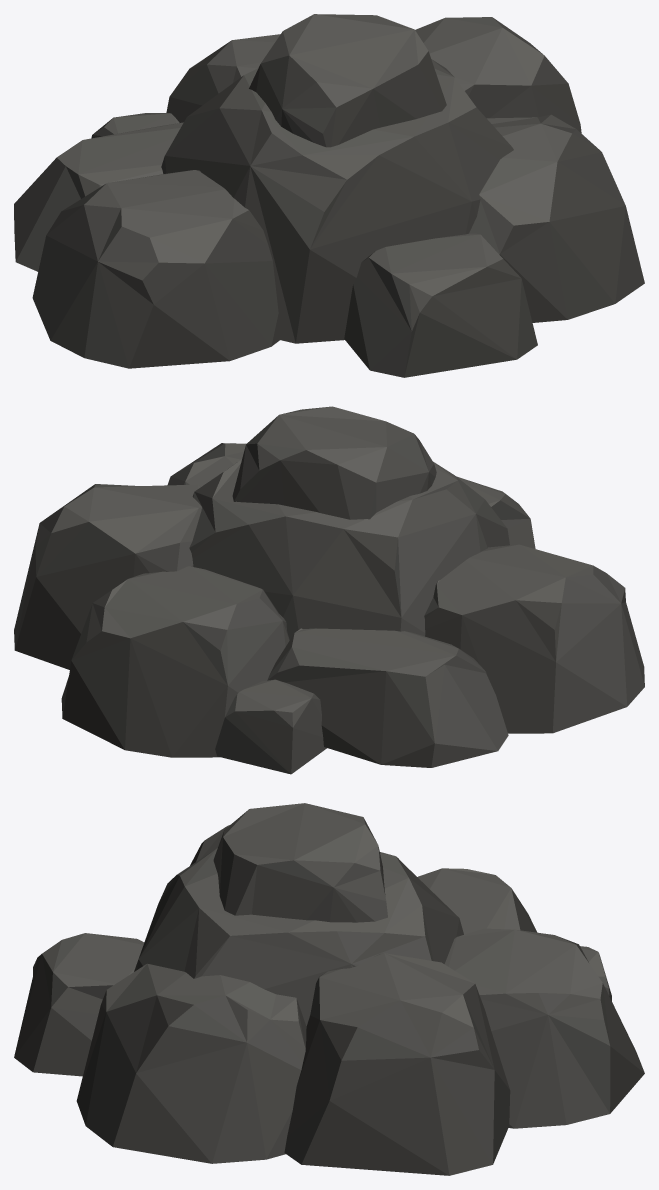
The model's file is SM_Prop_Rock_03.fbx.
The picture shows the model from 3 angles, top to bottom: view 1: azimuth 30°, elevation 25°; view 2: azimuth 150°, elevation 25°; view 3: azimuth 270°, elevation 25°; orthographic projection. The views are drawn at different scales.
Parts seen in each view (by area): view 1: SM_Prop_Rock_03; view 2: SM_Prop_Rock_03; view 3: SM_Prop_Rock_03.
Boxes of the visible parts, left/top/right/bottom form: SM_Prop_Rock_03: left=14, top=14, right=644, bottom=377; SM_Prop_Rock_03: left=14, top=406, right=644, bottom=774; SM_Prop_Rock_03: left=14, top=803, right=644, bottom=1175.
Size of the model in its own units: 51.94 by 19.79 by 50.36.
